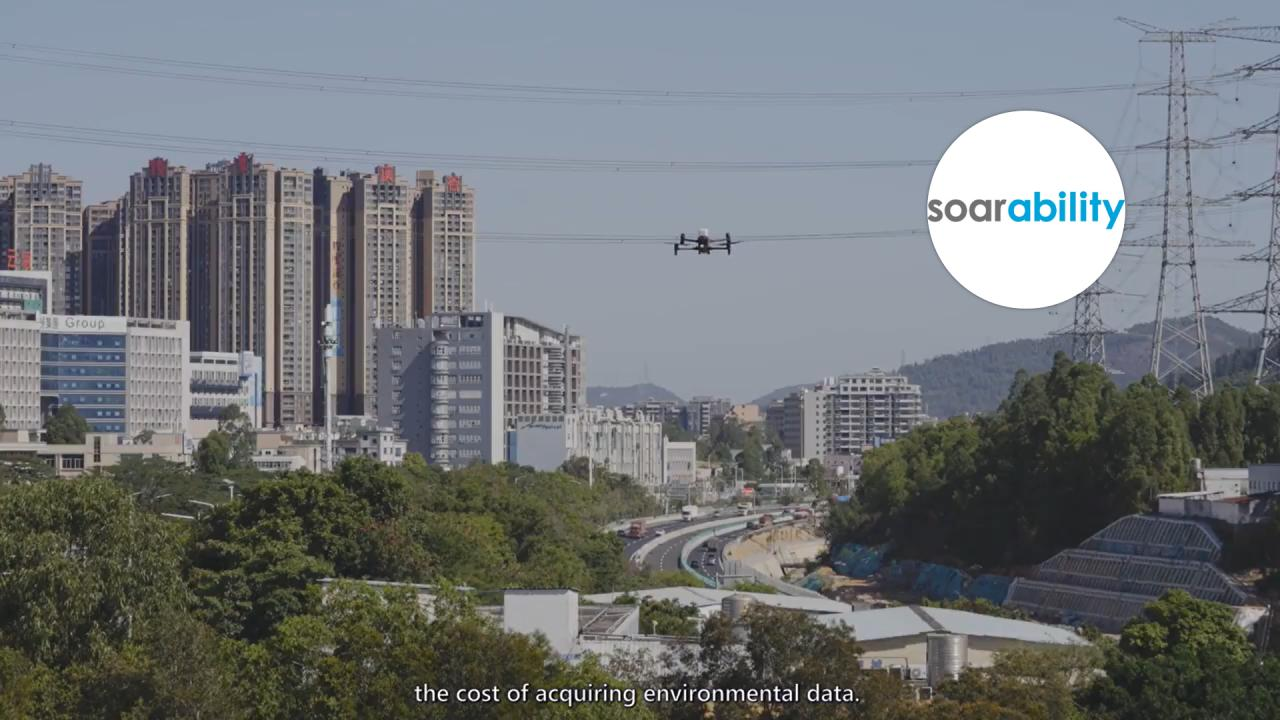Drone: (663, 228, 747, 262)
